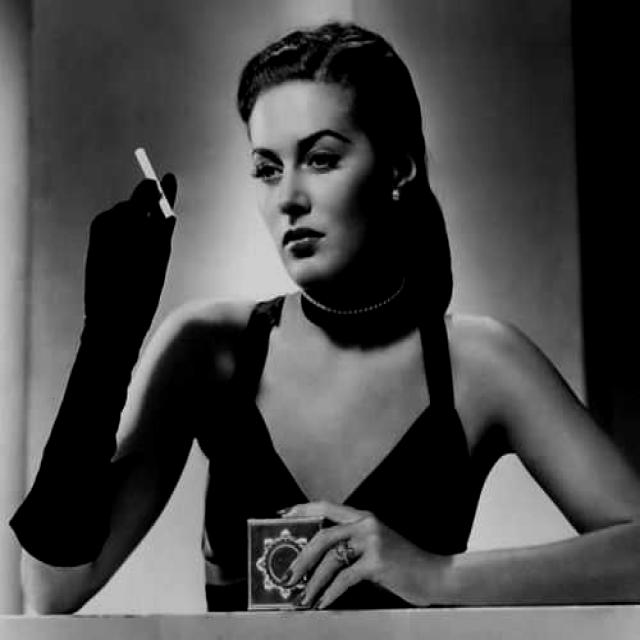Smooking: (130, 137, 188, 235)
